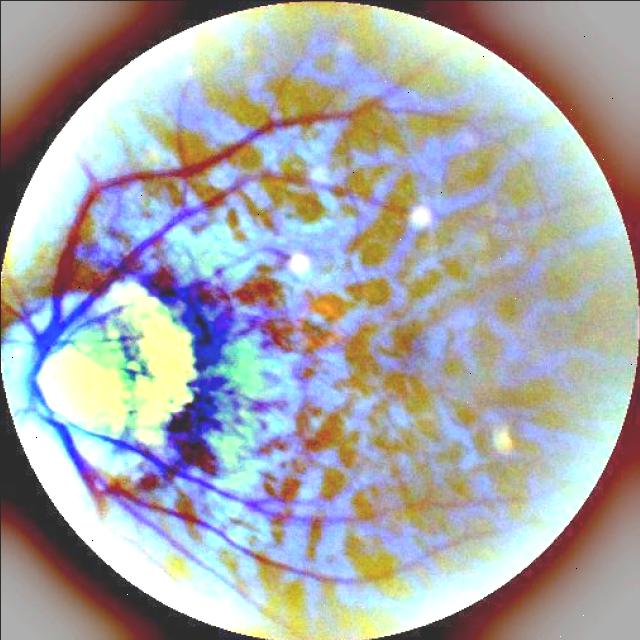Nerves: (28, 293, 100, 400)
Optic Disk: (0, 285, 198, 512)
